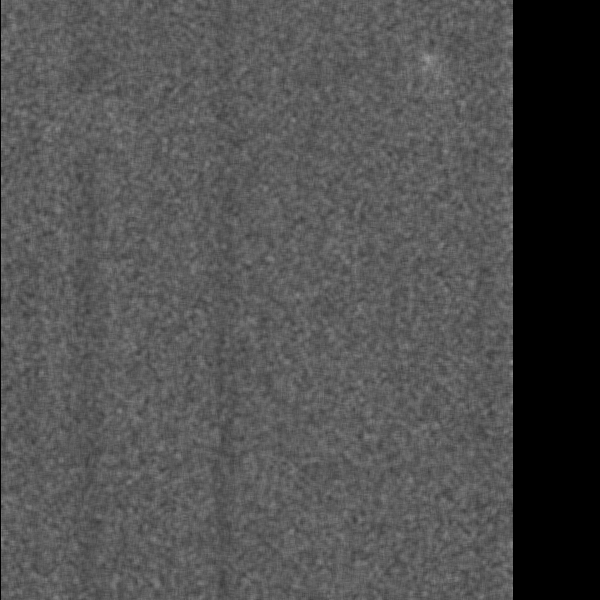spark: (412, 46, 441, 86)
